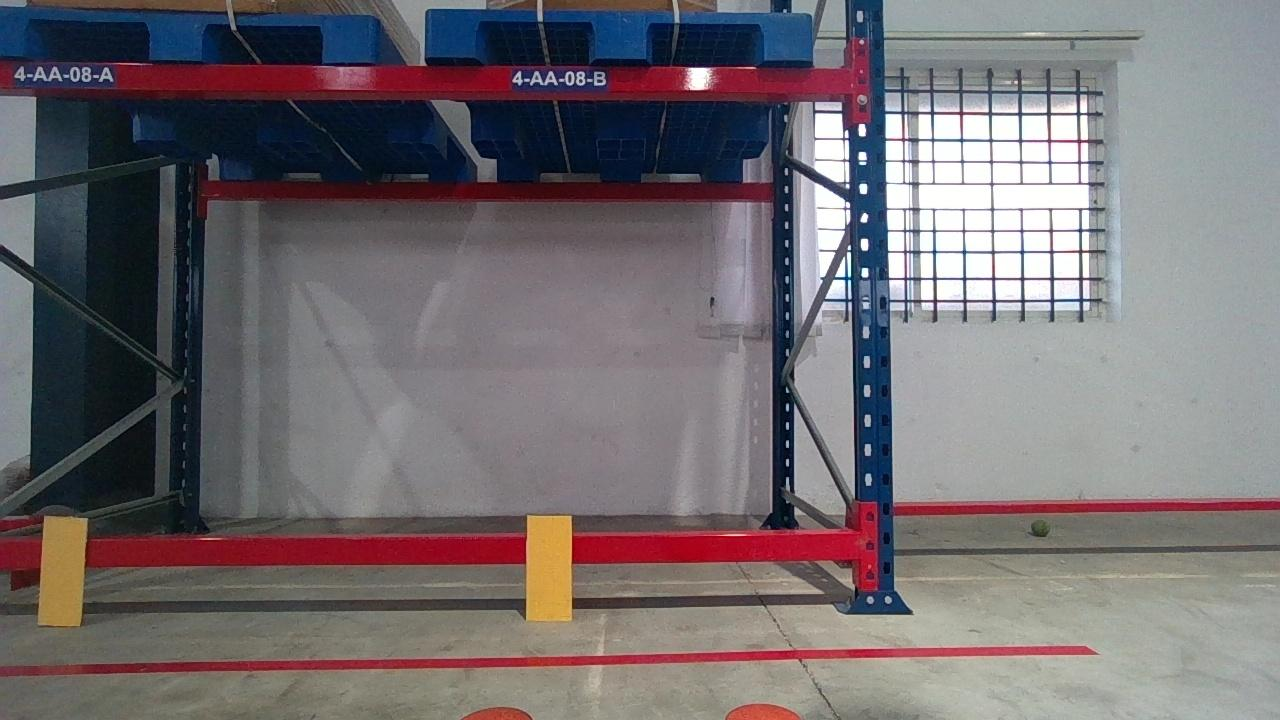h_rack: (2, 59, 857, 93), (0, 534, 860, 565)
orange_strip: (38, 516, 88, 626), (525, 514, 573, 619)
red_line: (19, 643, 1106, 675)
small_pallet: (421, 10, 815, 61), (2, 9, 379, 60)
